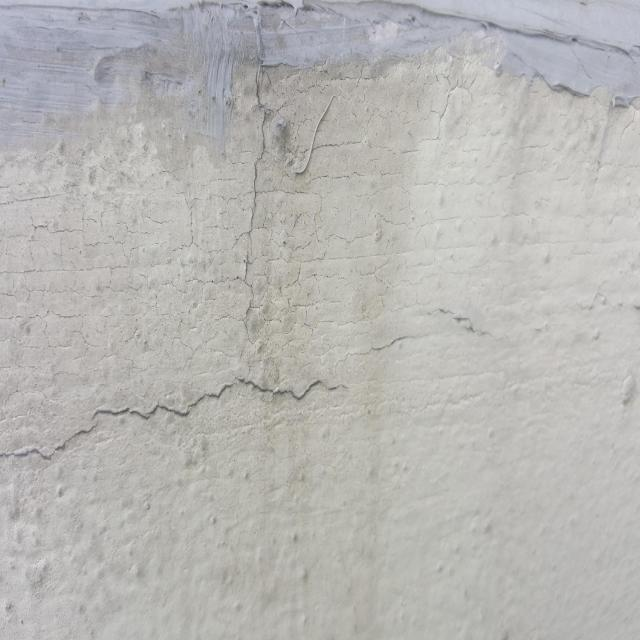SurfaceCrack: (2, 277, 635, 501)
